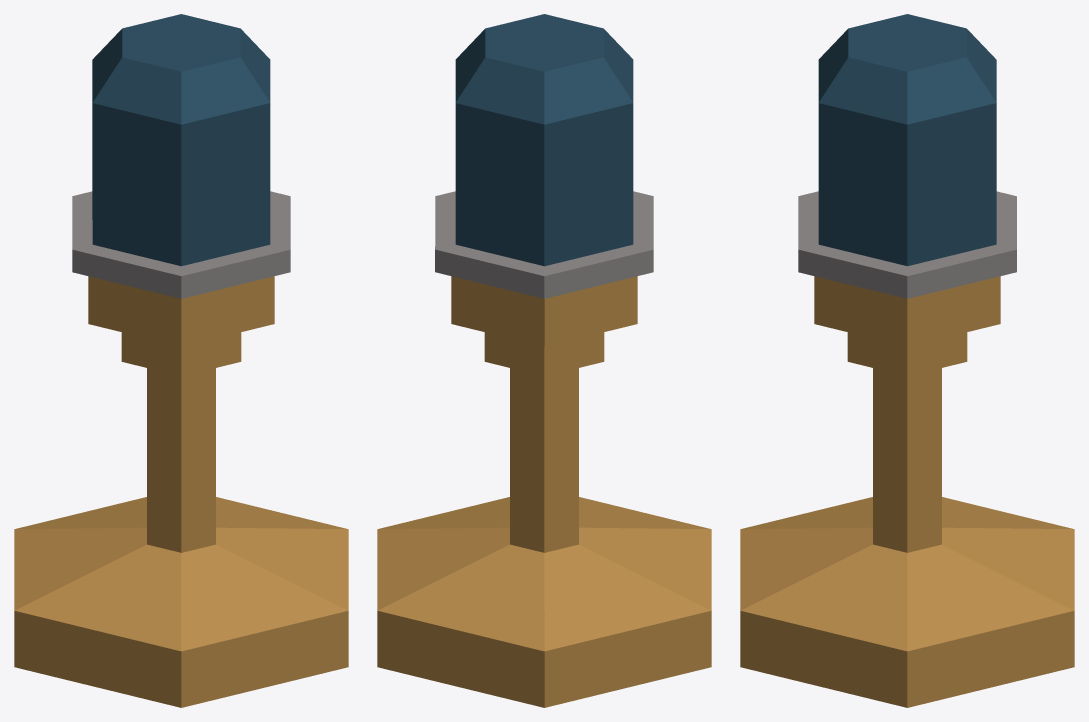
File: SM_Prop_Runway_Light_01.fbx
The picture shows the model from 3 angles, left to right: view 1: azimuth 30°, elevation 25°; view 2: azimuth 150°, elevation 25°; view 3: azimuth 270°, elevation 25°; orthographic projection.
Parts seen in each view (by area): view 1: SM_Prop_Runway_Light_01; view 2: SM_Prop_Runway_Light_01; view 3: SM_Prop_Runway_Light_01.
Boxes of the visible parts, x1,y1,x2,y2 form: SM_Prop_Runway_Light_01: (14,14,348,707); SM_Prop_Runway_Light_01: (377,14,711,707); SM_Prop_Runway_Light_01: (740,14,1074,707).
Bounding box in the file's own units: 29.29 × 48.89 × 25.36.
